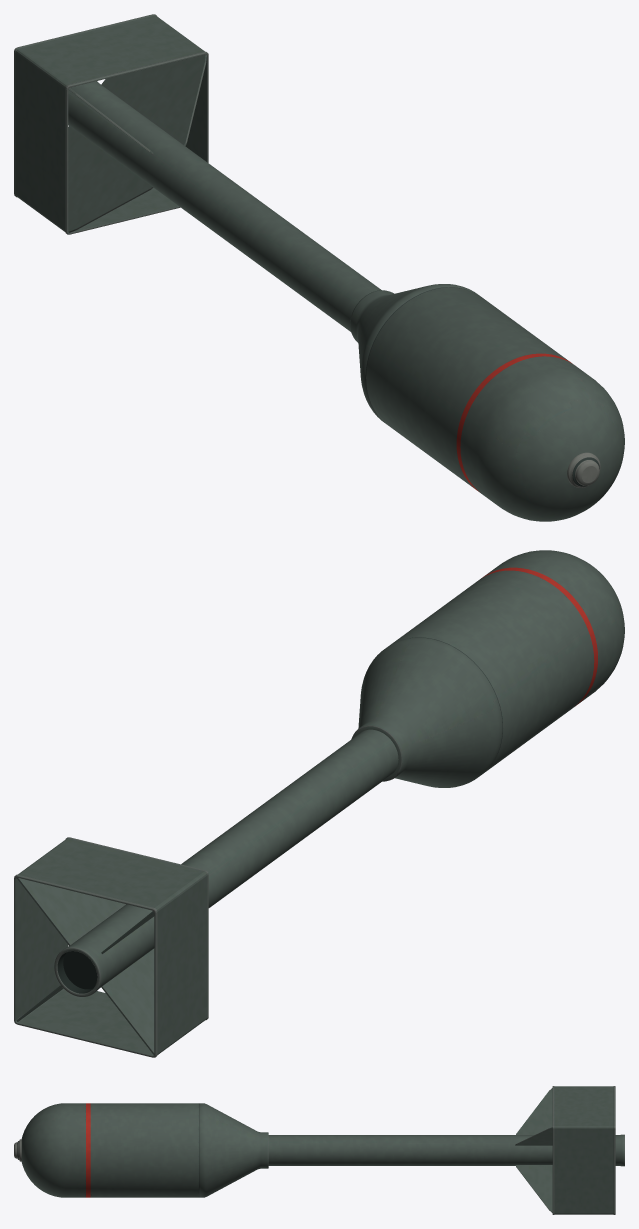
The model's file is hedgehog.glb.
3 renders of one model, top to bottom at view 1: azimuth 30°, elevation 25°; view 2: azimuth 150°, elevation 25°; view 3: azimuth 270°, elevation 25°, orthographic. The views are drawn at different scales.
Visible parts, largest first — view 1: warhead, fin_shroud, tail_tube, nose_fuze; view 2: warhead, fin_shroud, tail_tube; view 3: warhead, fin_shroud, tail_tube.
Part boxes in pixels (x1,y1,x2,y2): warhead: [350, 284, 624, 521]; fin_shroud: [14, 14, 208, 234]; tail_tube: [68, 81, 381, 331]; nose_fuze: [567, 452, 600, 487]; warhead: [351, 550, 624, 787]; fin_shroud: [14, 837, 208, 1057]; tail_tube: [54, 729, 398, 996]; warhead: [21, 1103, 268, 1197]; fin_shroud: [515, 1086, 615, 1214]; tail_tube: [268, 1134, 624, 1166].
Bounding box in the file's own units: 0.1894 × 0.1894 × 1.18.
Materials: 7 (7 with a texture image).
